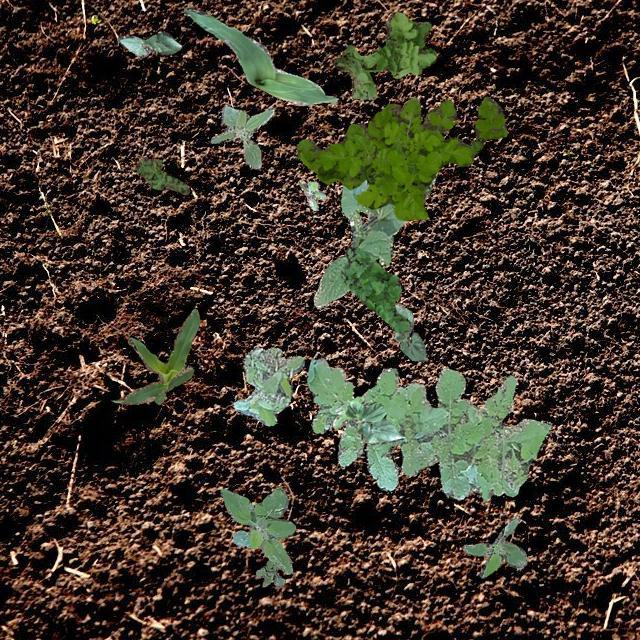crop: (312, 176, 434, 306), (182, 7, 336, 104), (112, 307, 198, 403), (332, 396, 404, 442), (392, 304, 424, 361), (116, 30, 180, 56)
weed: (306, 356, 550, 499), (296, 95, 507, 218), (332, 12, 434, 98), (220, 486, 294, 574), (341, 246, 412, 332), (232, 346, 304, 424), (210, 104, 272, 168), (462, 516, 526, 576), (134, 156, 188, 194), (254, 558, 284, 586), (298, 180, 324, 210)
